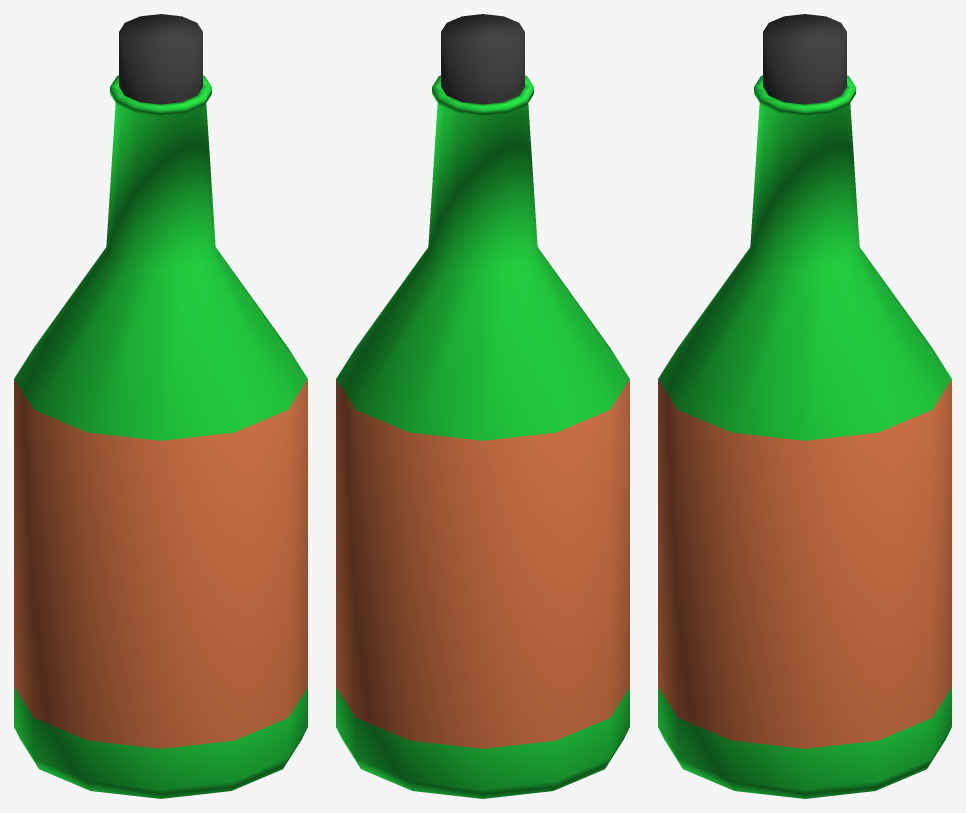
Rendered from Bottle.fbx.
The picture shows the model from 3 angles, left to right: view 1: azimuth 30°, elevation 25°; view 2: azimuth 150°, elevation 25°; view 3: azimuth 270°, elevation 25°; orthographic projection.
Parts seen in each view (by area): view 1: Cylinder.004, Cylinder.006; view 2: Cylinder.004, Cylinder.006; view 3: Cylinder.004, Cylinder.006.
Part boxes in pixels (x1,y1,x2,y2): Cylinder.004: [14, 75, 307, 798]; Cylinder.006: [119, 14, 202, 104]; Cylinder.004: [336, 75, 629, 798]; Cylinder.006: [441, 14, 524, 104]; Cylinder.004: [658, 75, 951, 798]; Cylinder.006: [763, 14, 846, 104].
Bounding box in the file's own units: 14 × 37.5 × 14.
